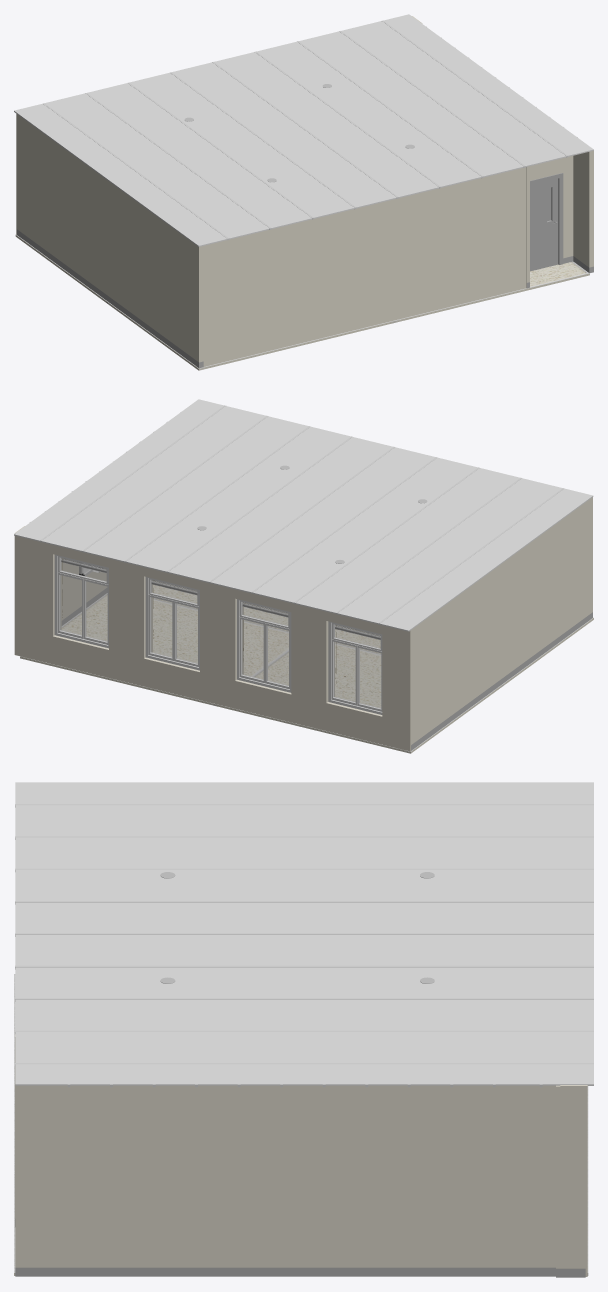
The model's file is Salon v2 002.fbx.
The picture shows the model from 3 angles, top to bottom: view 1: azimuth 30°, elevation 25°; view 2: azimuth 150°, elevation 25°; view 3: azimuth 270°, elevation 25°; orthographic projection. The views are drawn at different scales.
Parts seen in each view (by area): view 1: salon:Ceiling, salon:Wall___2, salon:Wall___3, salon:Wall___1, Salon_GEO, salon:Floor; view 2: salon:Ceiling, salon:Wall___4, salon:Wall___3, salon:Floor, salon:Window___1, salon:Window___1____3_, salon:Window___1____1_, salon:Window___1____2_, salon:Wall___1; view 3: salon:Ceiling, salon:Wall___1, salon:Floor.
Part boxes in pixels (x1=…): salon:Ceiling: x1=14, y1=14, x2=593, y2=246; salon:Wall___2: x1=203, y1=167, x2=526, y2=366; salon:Wall___3: x1=17, y1=114, x2=203, y2=368; salon:Wall___1: x1=421, y1=22, x2=593, y2=288; Salon_GEO: x1=530, y1=173, x2=563, y2=271; salon:Floor: x1=15, y1=234, x2=589, y2=370; salon:Ceiling: x1=14, y1=399, x2=593, y2=631; salon:Wall___4: x1=14, y1=527, x2=410, y2=751; salon:Wall___3: x1=411, y1=497, x2=592, y2=750; salon:Floor: x1=20, y1=581, x2=593, y2=753; salon:Window___1: x1=328, y1=621, x2=382, y2=714; salon:Window___1____3_: x1=54, y1=554, x2=108, y2=648; salon:Window___1____1_: x1=237, y1=599, x2=291, y2=692; salon:Window___1____2_: x1=145, y1=577, x2=199, y2=670; salon:Wall___1: x1=24, y1=526, x2=107, y2=625; salon:Ceiling: x1=15, y1=782, x2=593, y2=1087; salon:Wall___1: x1=15, y1=1034, x2=585, y2=1277; salon:Floor: x1=14, y1=974, x2=588, y2=1275.
Bounding box in the file's own units: 1913 × 574 × 1546.
